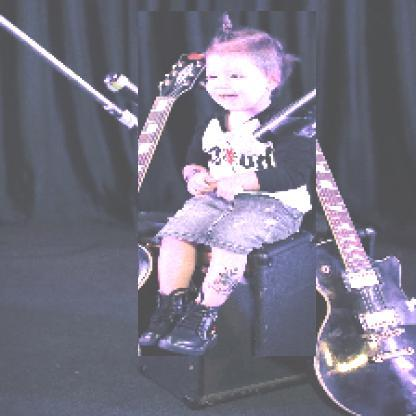child: (139, 12, 318, 358)
